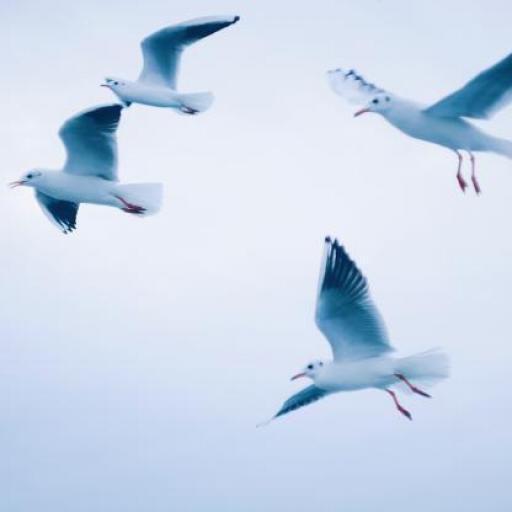aircraft: (264, 232, 450, 430)
bird: (327, 52, 511, 197), (8, 104, 162, 236), (101, 14, 244, 116)
